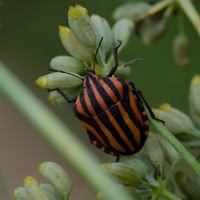insect: (47, 41, 162, 155)
